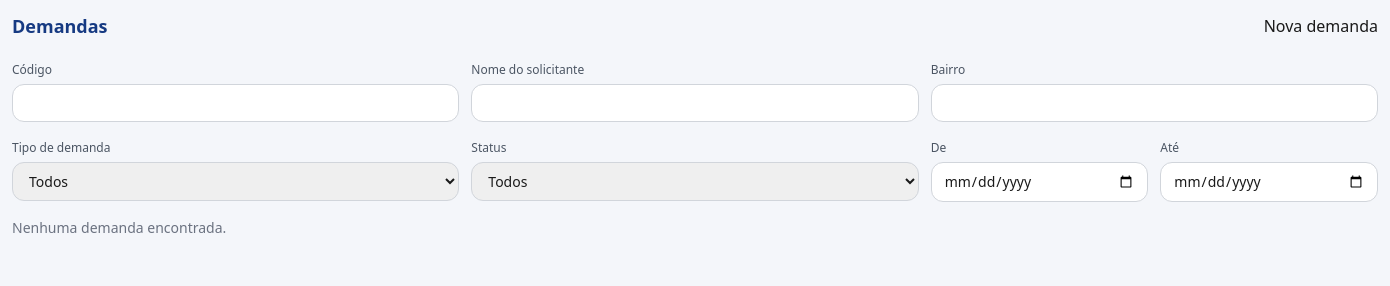
Test: DemandasPage — filtros novos › mostra "Limpar filtros" só com filtro ativo e limpa tudo ao clicar
expect the button "Limpar filtros" is not shown: met
Select "Recebida" in the dropdown labelled "Status" at (695, 182), box [471, 162, 919, 201]
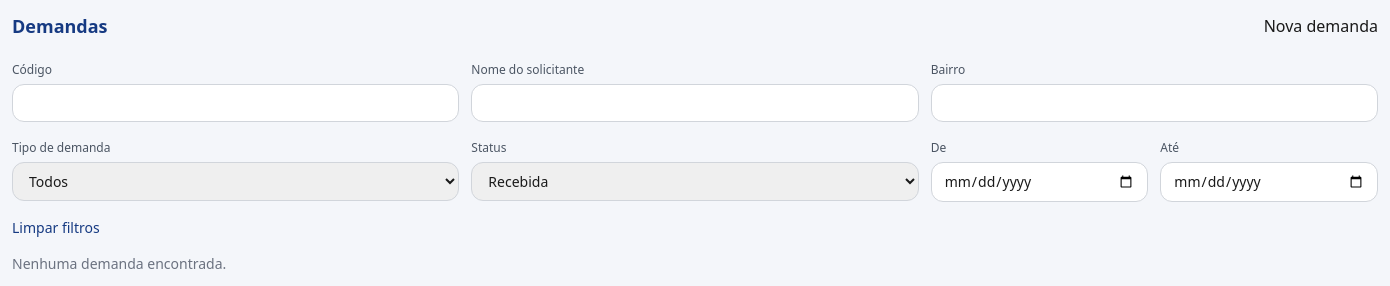
Click the button "Limpar filtros".
click(56, 228)  # box [12, 218, 100, 238]
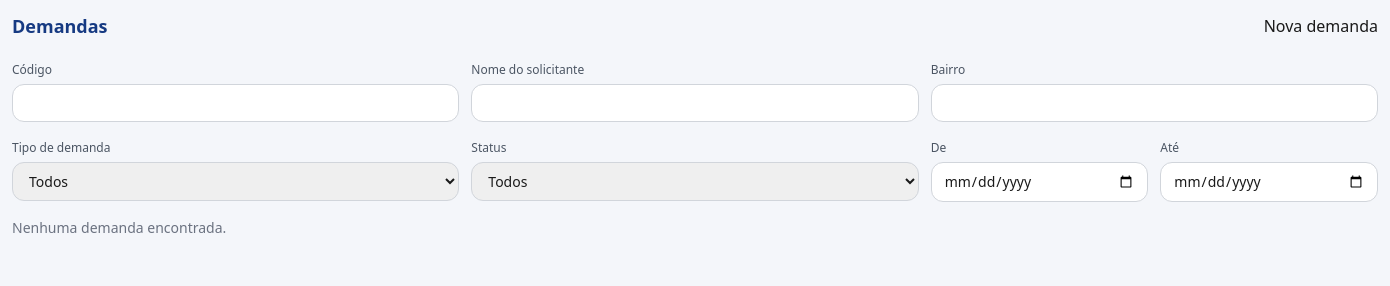
expect the button "Limpar filtros" is gone: met
